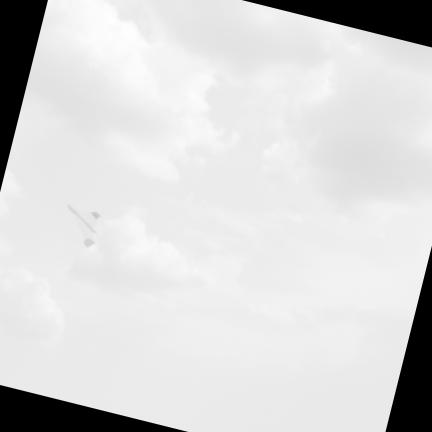Shahed: (68, 204, 100, 247)
